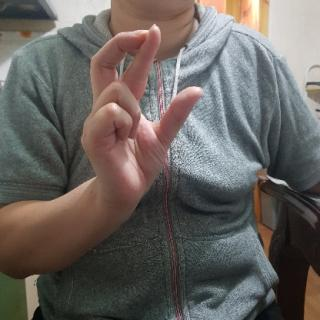DHELL: (70, 20, 211, 214)
